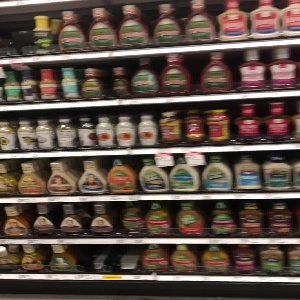void: (79, 240, 140, 275), (1, 10, 31, 59)
